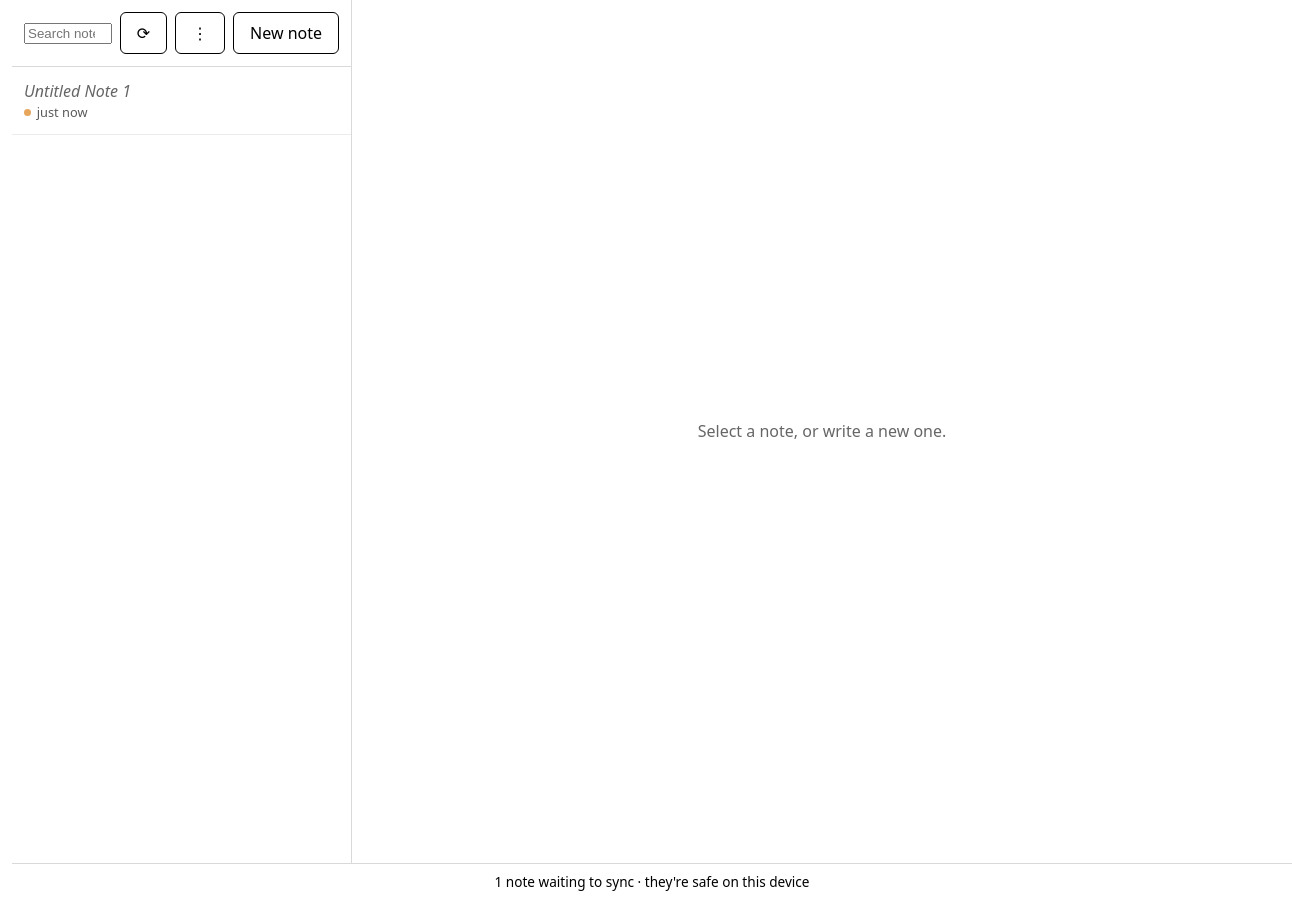
Test: AppShell › typing a title latches it permanently, and the row reflects the saved title after a flush
Click the button "New note" at (286, 33), box [233,12,339,54]
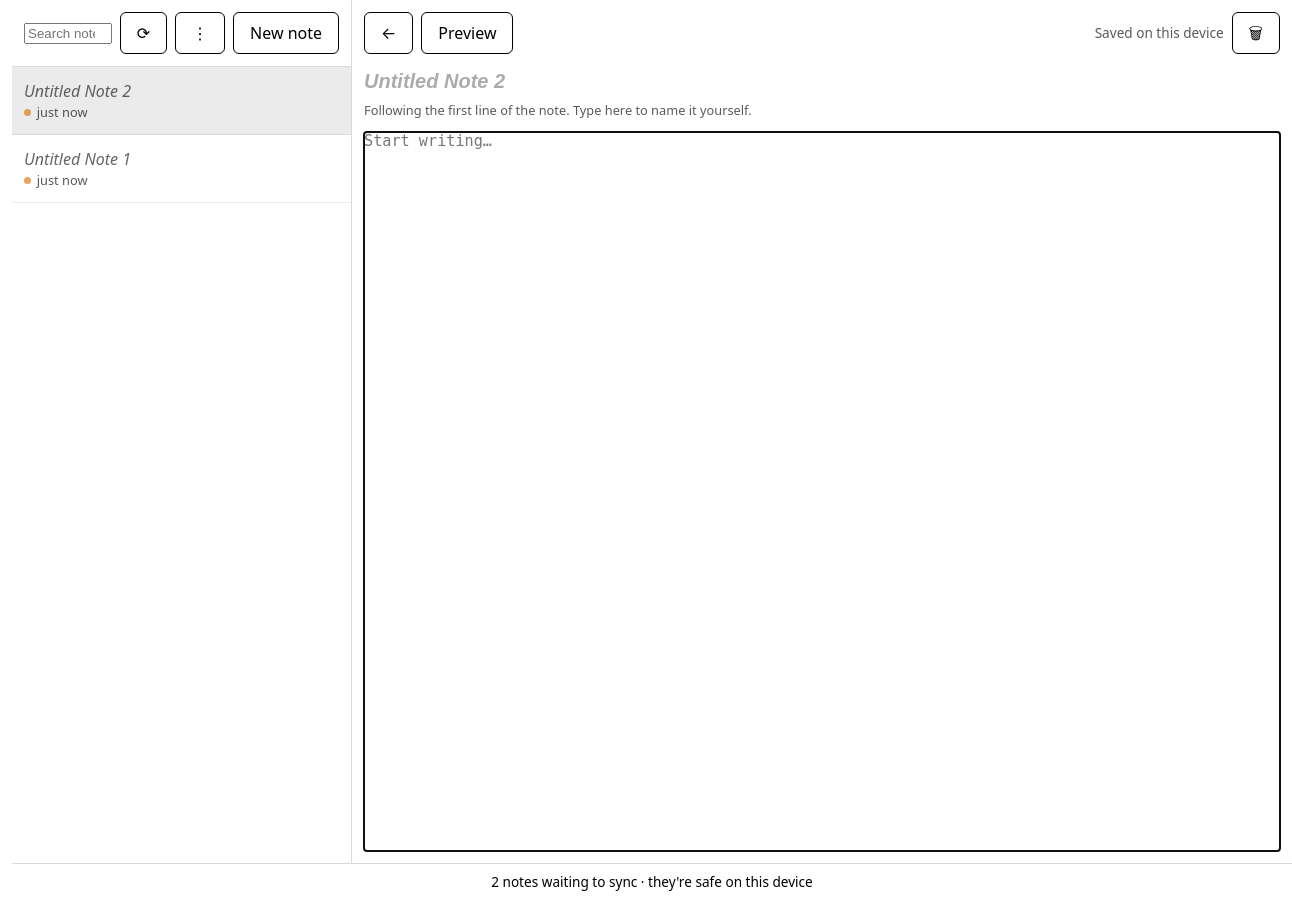
Now the text box named "Note body" is shown
Type "Hello world" into the text box named "Note body" at (822, 491), box [364,132,1280,851]
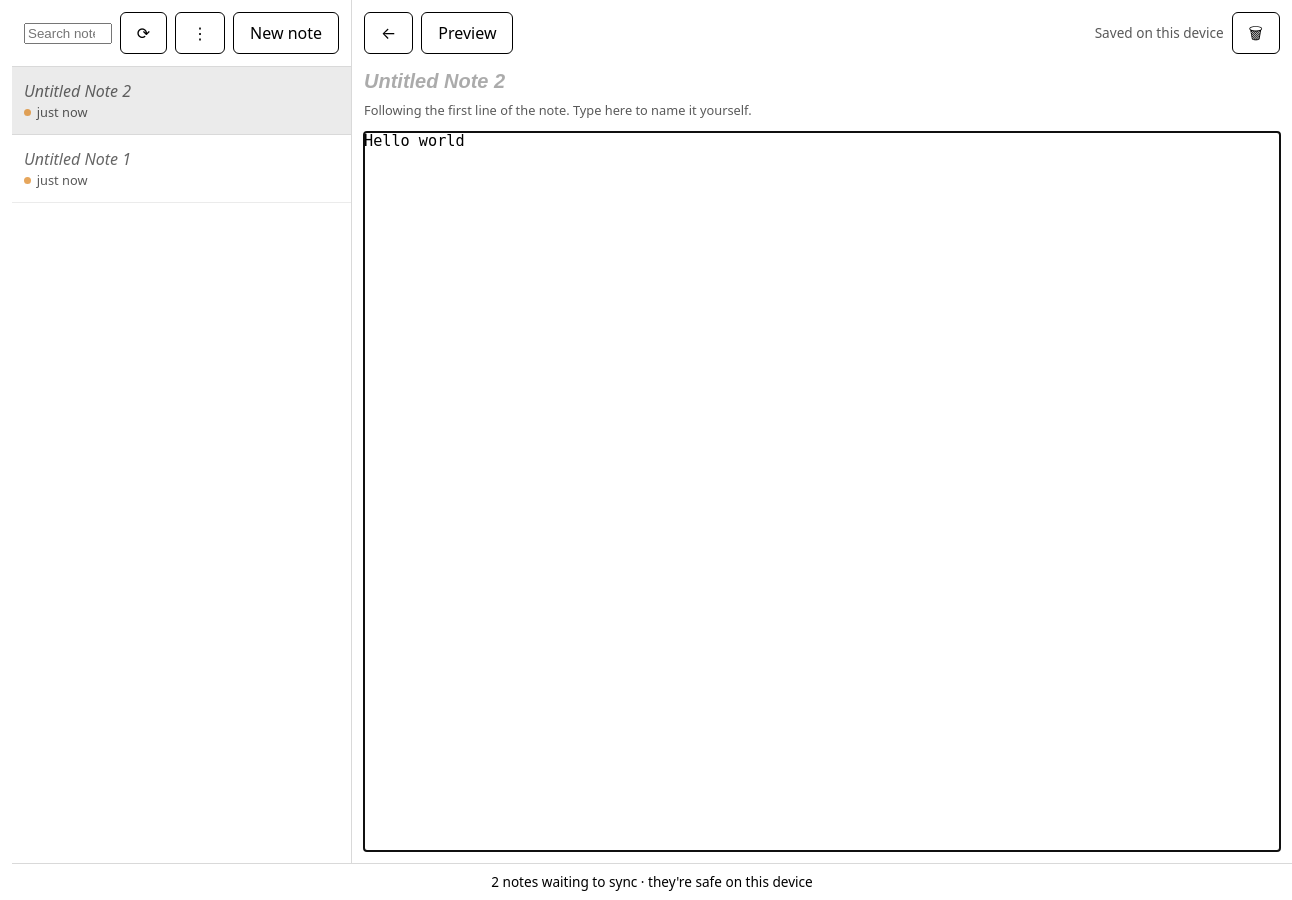
Type "My Title" into the field labelled "title" at (822, 82), box [364,66,1280,97]
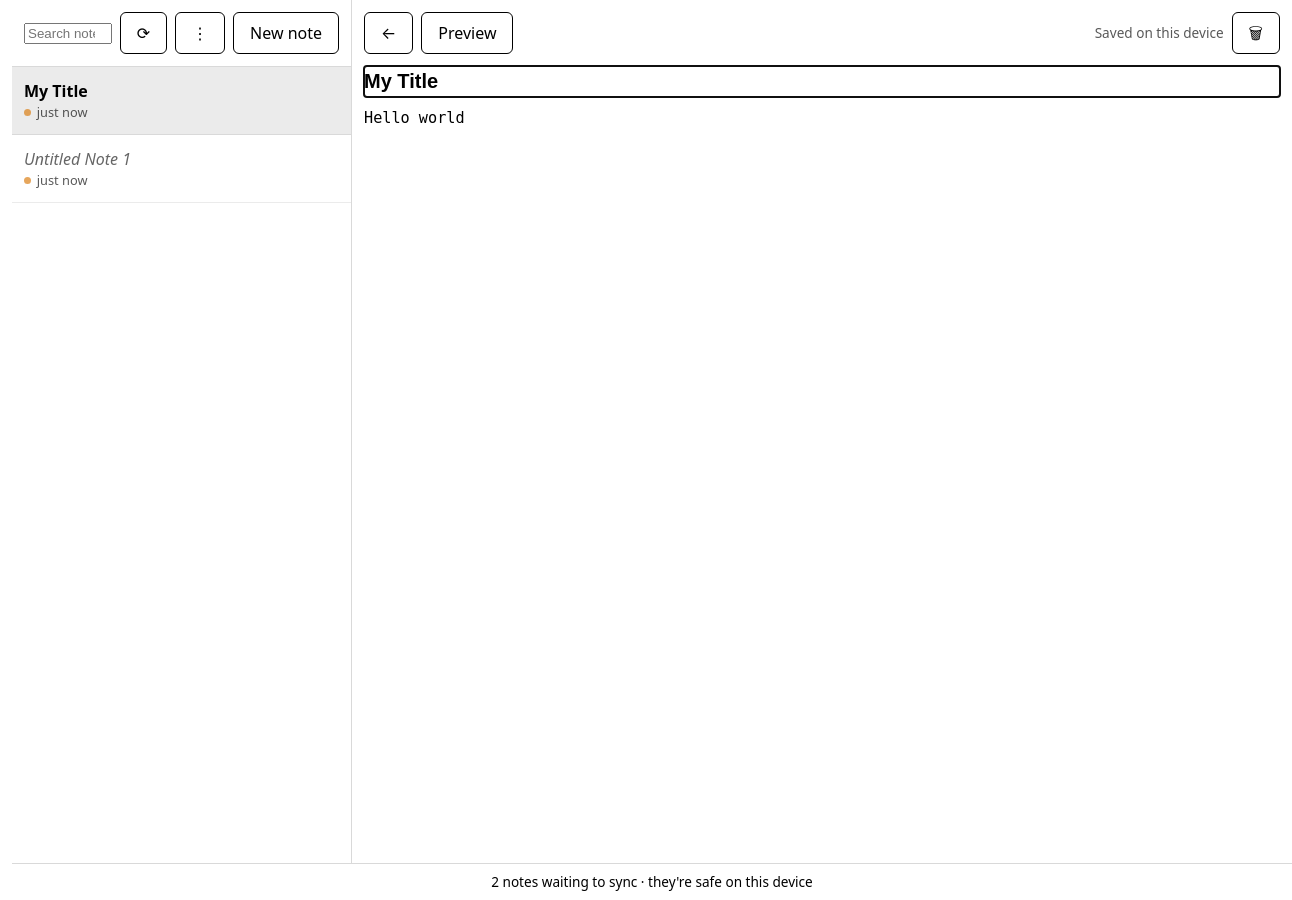
Now the button "My Title just now" is shown, box [12,67,351,135]
